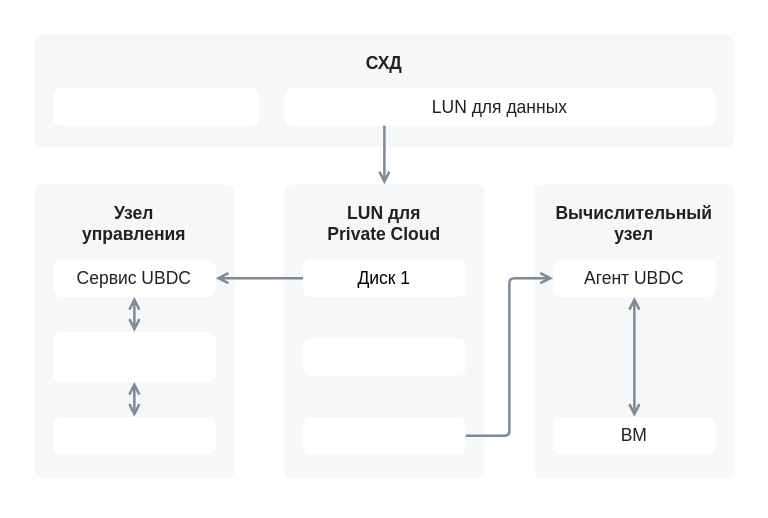
Some shapes in this 768 by 518 pixel diagram are drawn without their labels. The centre of each missing label's shape, as x and y in pixels:
"Cinder" belongs at point (133, 435).
"Cinder-драйвер UBDC" belongs at point (133, 356).
"LUN-свидетель" belongs at point (155, 106).
"Диск 2" belongs at point (383, 356).
"Диск 3" belongs at point (383, 435).
